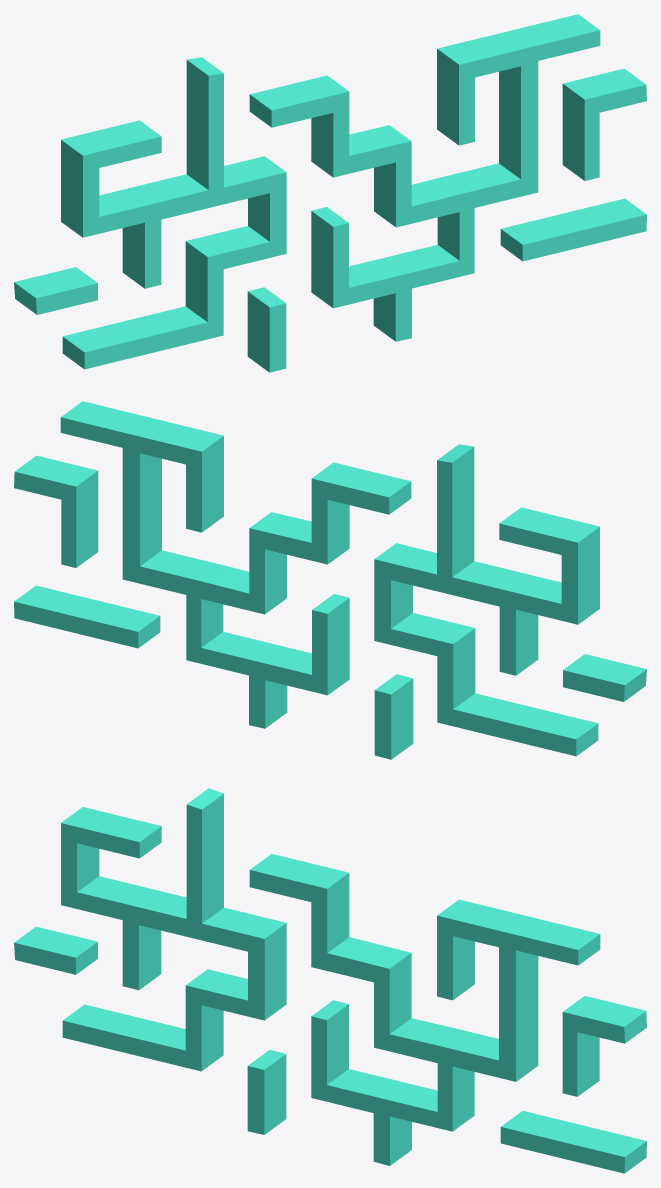
File: maze.dae
3 renders of one model, top to bottom at view 1: azimuth 30°, elevation 25°; view 2: azimuth 150°, elevation 25°; view 3: azimuth 330°, elevation 25°, orthographic.
Visible parts, largest first — view 1: Cube.001; view 2: Cube.001; view 3: Cube.001.
Part boxes in pixels (x1,y1,x2,y2): Cube.001: [14, 14, 646, 372]; Cube.001: [14, 401, 646, 759]; Cube.001: [14, 788, 646, 1173].
Size of the model in its own units: 4.43 by 0.2767 by 2.16.
